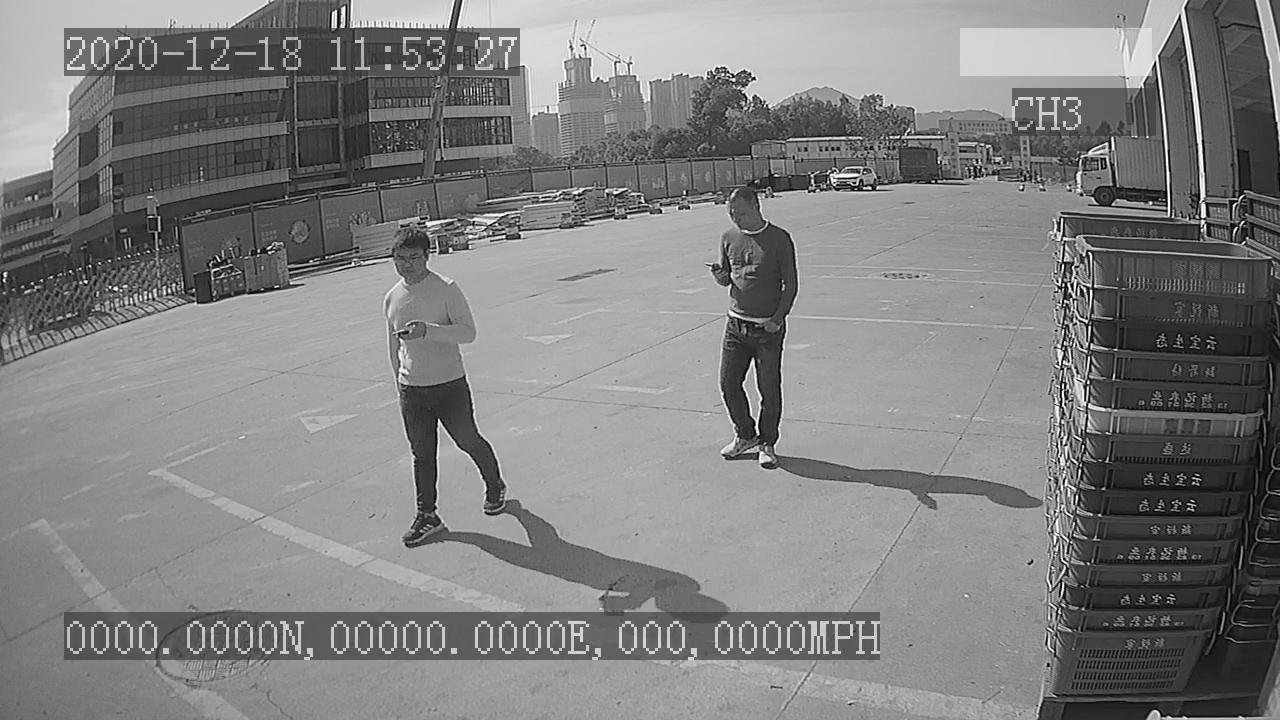person: (365, 227, 513, 556), (702, 185, 802, 474)
